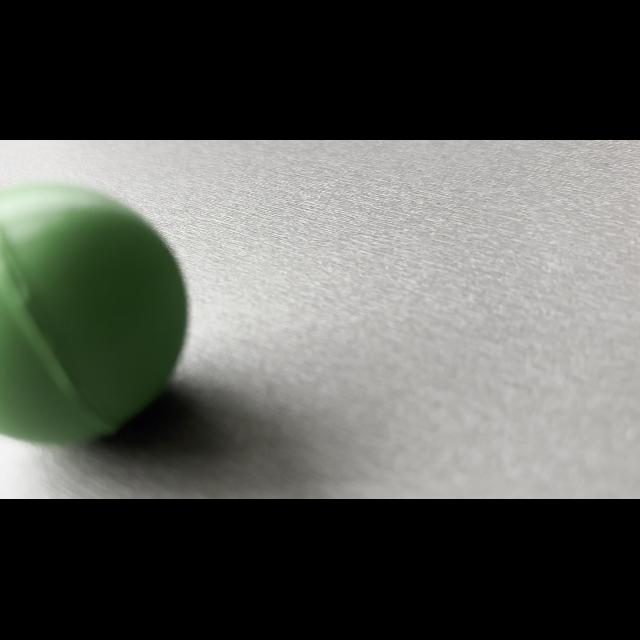objects: (1, 170, 196, 468)
